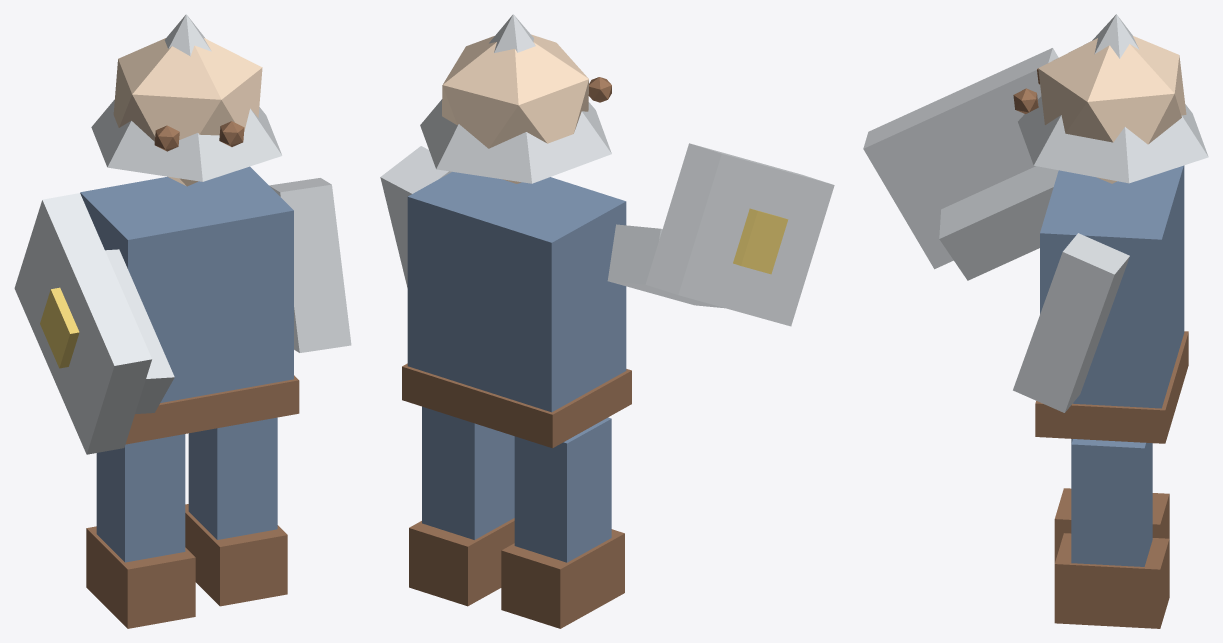
File: npcpose_guard_idle_09.glb
3 renders of one model, left to right at view 1: azimuth 30°, elevation 25°; view 2: azimuth 150°, elevation 25°; view 3: azimuth 270°, elevation 25°, orthographic.
Visible parts, largest first — view 1: npcpose; view 2: npcpose; view 3: npcpose.
Boxes of the visible parts, left/top/right/bottom form: npcpose: left=14, top=14, right=351, bottom=628; npcpose: left=380, top=14, right=834, bottom=628; npcpose: left=863, top=14, right=1208, bottom=628.
Size of the model in its own units: 0.9287 by 1.55 by 0.844.
